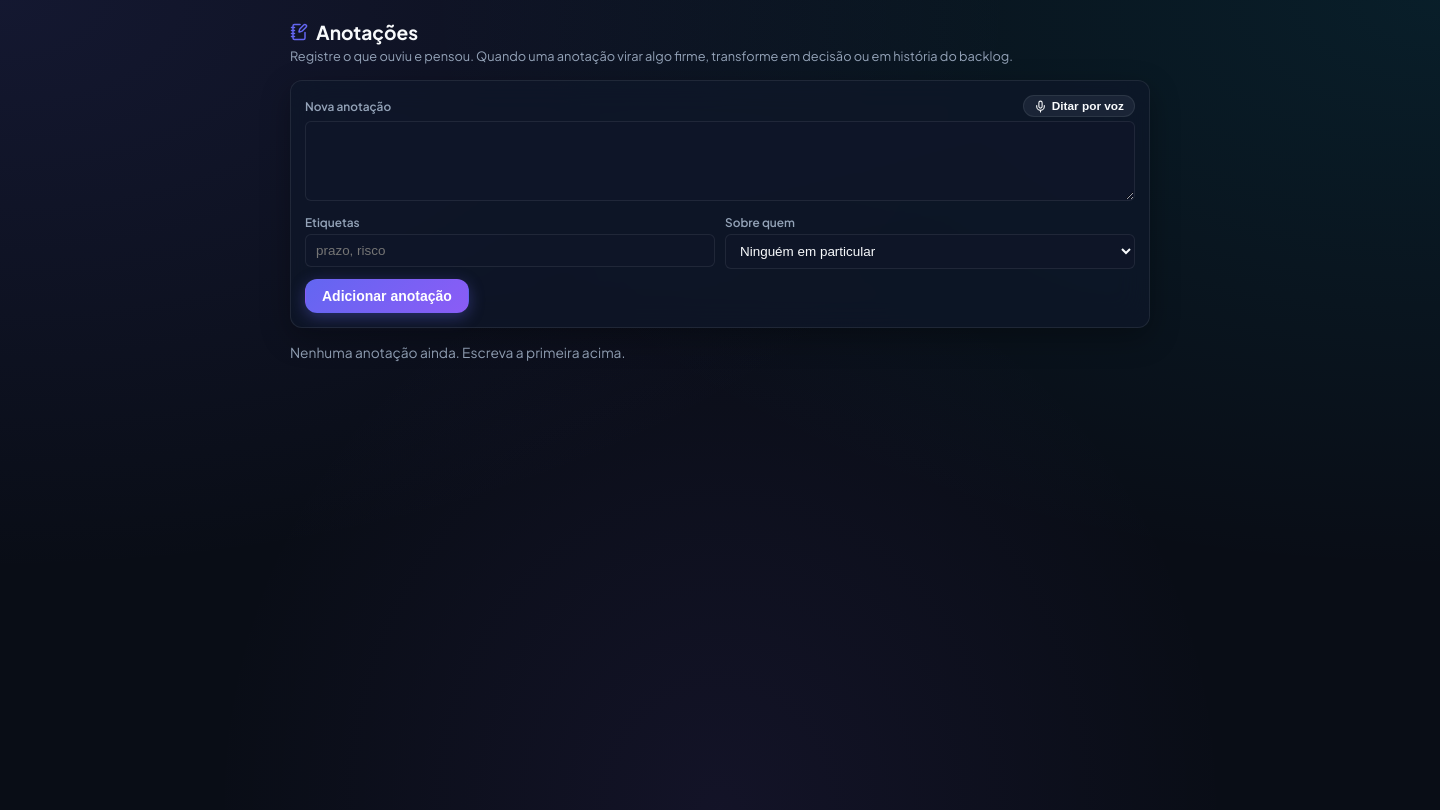
Test: NotesView: ditado por voz › a fala entra depois do que já foi digitado
Type "Reunião com o diretor:" into the text box labelled "Nova anotação". click: (720, 161)
box: [305,121,1135,201]
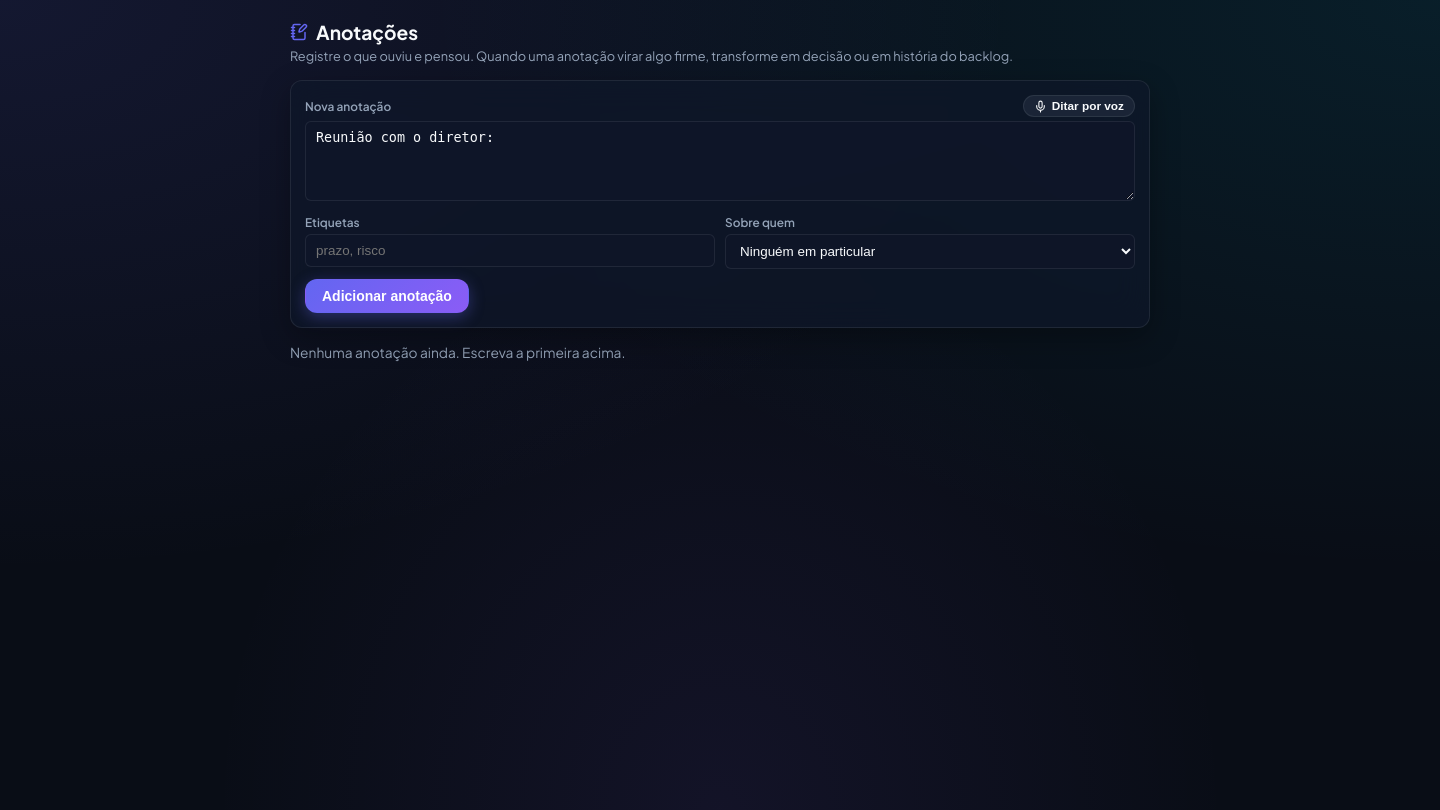
Click the button "Ditar por voz". click: (1079, 106)
box: [1023,95,1135,117]
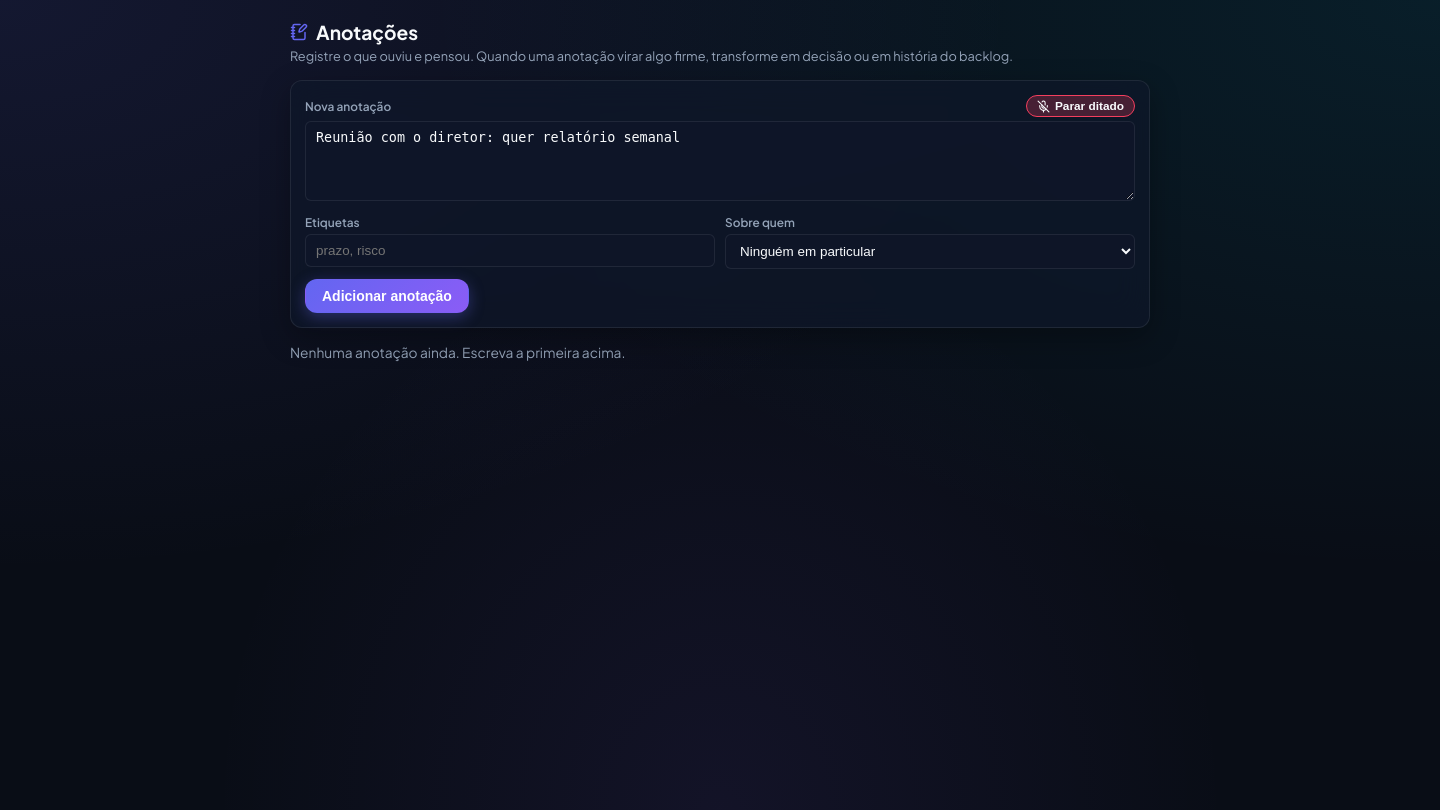
Expected: the text box labelled "Nova anotação" holds "Reunião com o diretor: quer relatório semanal", [305,121,1135,201]
